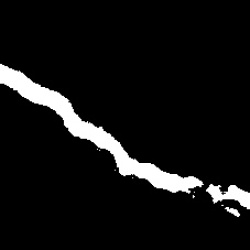crack: (2, 66, 202, 193), (207, 181, 248, 210), (219, 206, 241, 217)
